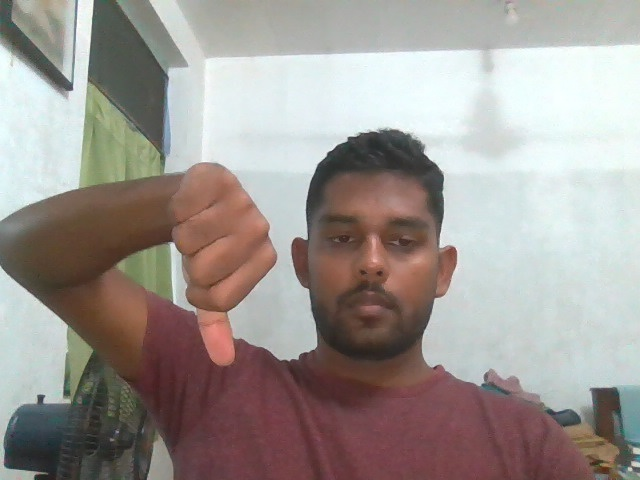dontlike: (150, 151, 289, 370)
